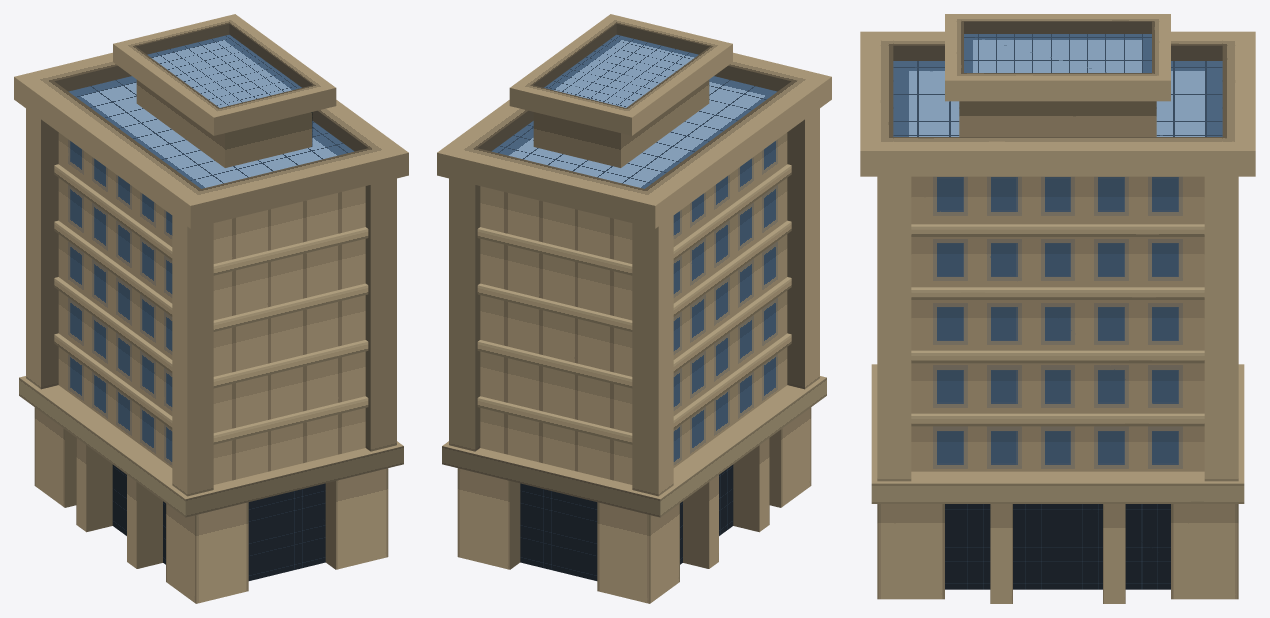
The model's file is historic.glb.
The picture shows the model from 3 angles, left to right: view 1: azimuth 30°, elevation 25°; view 2: azimuth 150°, elevation 25°; view 3: azimuth 270°, elevation 25°; orthographic projection. The views are drawn at different scales.
Parts seen in each view (by area): view 1: Cube.003, Cube.004, Cube.009, Cube.020, Cube.010, Cube.013, Cube.011, Cube.080, Cube.076, Cube.016, Cube, Cube.007 (+6 smaller); view 2: Cube.003, Cube.004, Cube.009, Cube.020, Cube.013, Cube.010, Cube.012, Cube.080, Cube.065, Cube.014, Cube, Cube.007 (+6 smaller); view 3: Cube.003, Cube.004, Cube.009, Cube.080, Cube.020, Cube.011, Cube.012, Cube, Cube.014, Cube.016, Cube.008, Cube.005 (+4 smaller).
Boxes of the visible parts, box(x1,y1,x2,y2) form: Cube.003: box(58, 132, 365, 484); Cube.004: box(14, 52, 408, 228); Cube.009: box(113, 14, 336, 135); Cube.020: box(19, 376, 403, 517); Cube.010: box(172, 216, 213, 496); Cube.013: box(26, 108, 58, 389); Cube.011: box(365, 178, 396, 451); Cube.080: box(112, 464, 325, 580); Cube.076: box(166, 502, 248, 603); Cube.016: box(325, 468, 388, 569); Cube: box(136, 80, 312, 167); Cube.007: box(54, 164, 368, 275); Cube.003: box(480, 132, 787, 484); Cube.004: box(437, 52, 831, 228); Cube.009: box(509, 14, 732, 135); Cube.020: box(442, 376, 826, 517); Cube.013: box(632, 216, 673, 496); Cube.010: box(787, 108, 819, 389); Cube.012: box(449, 178, 480, 451); Cube.080: box(520, 464, 733, 580); Cube.065: box(597, 502, 679, 603); Cube.014: box(457, 468, 520, 569); Cube: box(533, 80, 709, 167); Cube.007: box(477, 164, 791, 275); Cube.003: box(911, 176, 1204, 471); Cube.004: box(860, 31, 1255, 176); Cube.009: box(945, 14, 1170, 101); Cube.080: box(945, 504, 1170, 589); Cube.020: box(871, 364, 1244, 503); Cube.011: box(877, 176, 911, 481); Cube.012: box(1204, 176, 1238, 481); Cube: box(959, 101, 1156, 136); Cube.014: box(1171, 504, 1238, 599); Cube.016: box(877, 504, 944, 599); Cube.008: box(911, 413, 1204, 426); Cube.005: box(911, 350, 1204, 363).
Bounding box in the file's own units: 2.5 × 4.95 × 3.5.
Materials: 8 (8 with a texture image).
